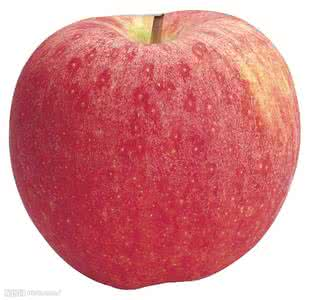apple: (10, 5, 301, 287)
